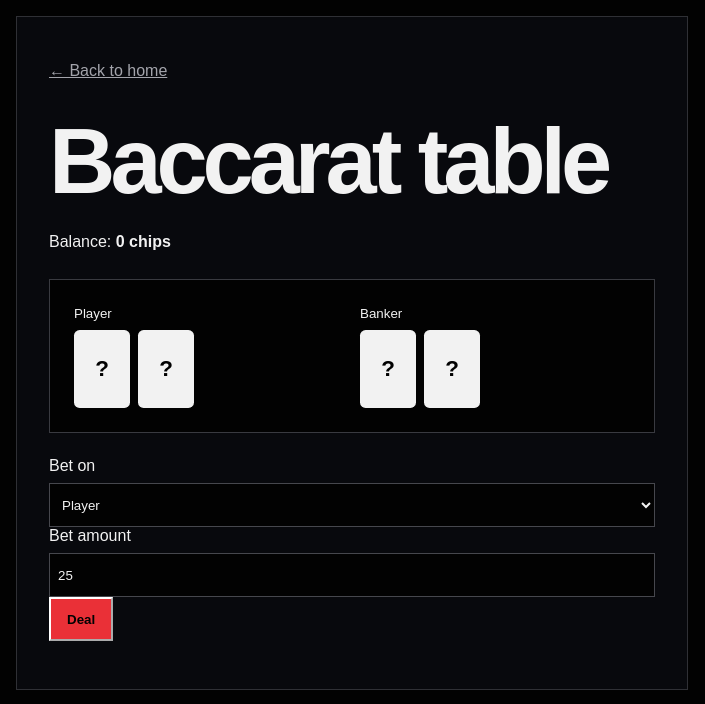
Scenario: baccarat starts a card-dealing preview before prompting an unsigned visitor to sign in
The image size is (705, 704).
Click the button "Deal" at (81, 619), box x1=49 y1=597 x2=113 y2=641
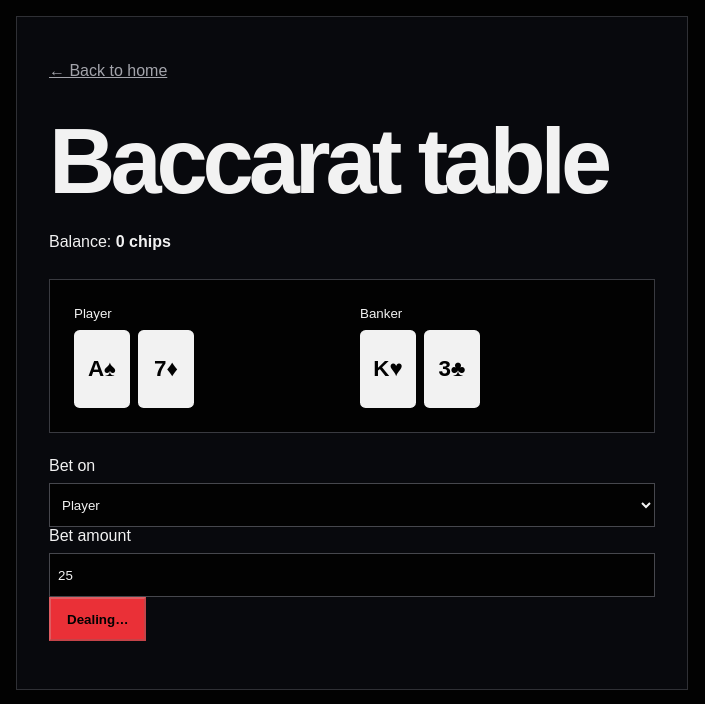
Expected: the text "A♠" is shown, x1=74 y1=330 x2=130 y2=408
